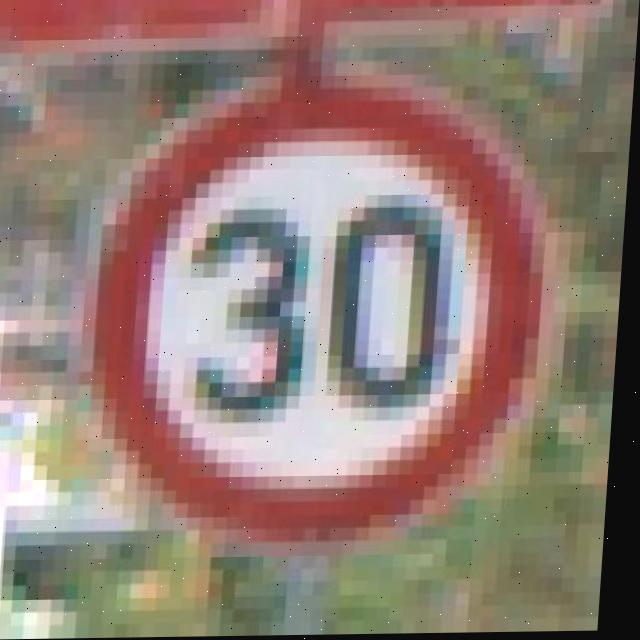Speed limit 30: (91, 82, 563, 541)
